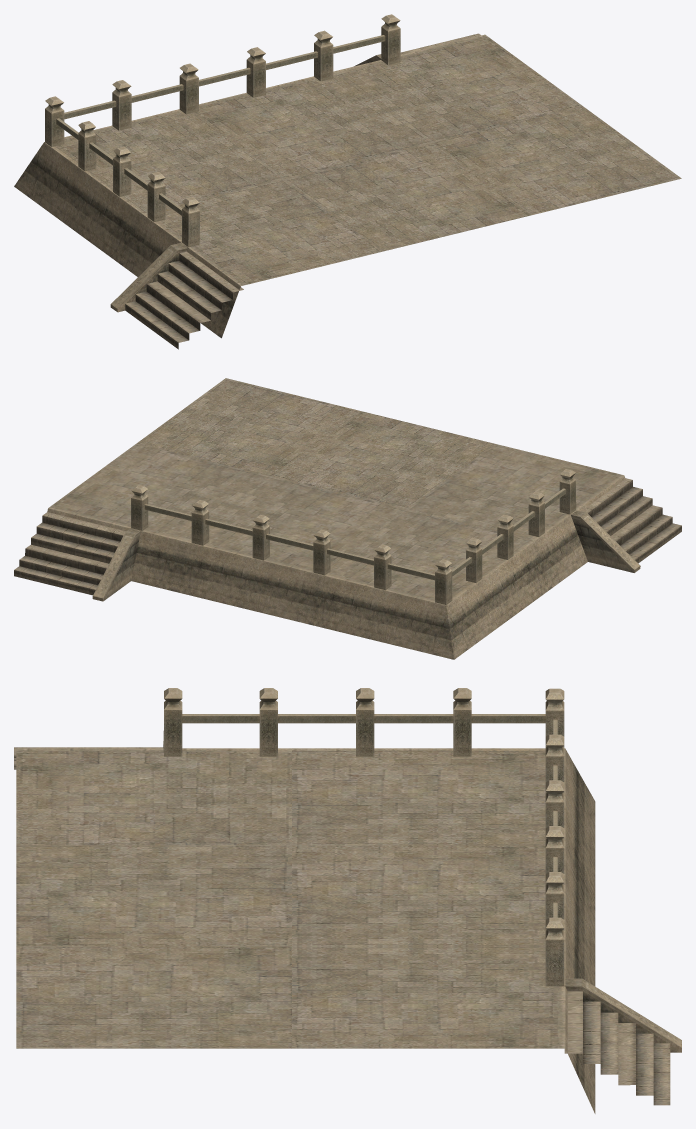
File: desert_tower03.glb
The picture shows the model from 3 angles, top to bottom: view 1: azimuth 30°, elevation 25°; view 2: azimuth 150°, elevation 25°; view 3: azimuth 270°, elevation 25°; orthographic projection. The views are drawn at different scales.
Visible parts, largest first — view 1: desert_tower02_04; view 2: desert_tower02_04; view 3: desert_tower02_04.
Part boxes in pixels (x1,y1,x2,y2): desert_tower02_04: [14, 14, 681, 349]; desert_tower02_04: [14, 378, 681, 659]; desert_tower02_04: [14, 688, 681, 1113].
Size of the model in its own units: 42.51 by 7.32 by 34.46.
Materials: 1 (1 with a texture image).
